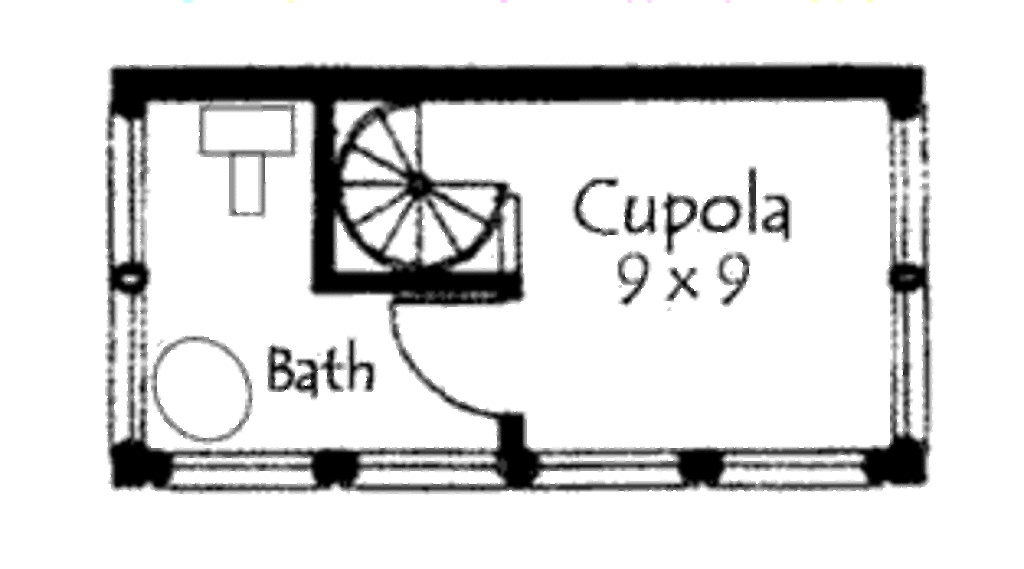door: (375, 297, 549, 439)
stairs: (328, 89, 520, 291)
window: (97, 106, 148, 265), (105, 290, 155, 440)
windows: (162, 450, 872, 501), (880, 108, 934, 445)
